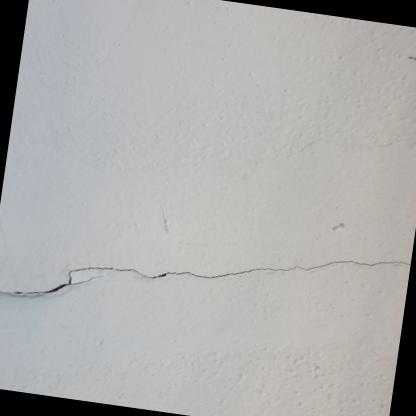crack: (0, 259, 410, 294)
